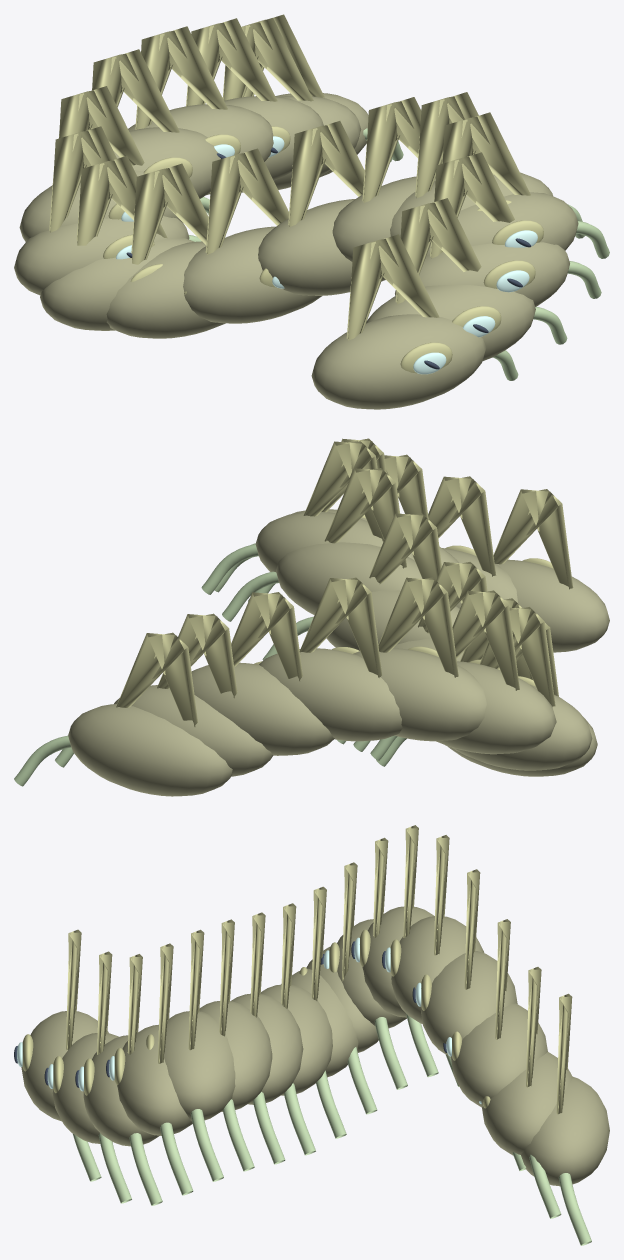
The model's file is bio_ribbon_colony_09_near.glb.
The picture shows the model from 3 angles, top to bottom: view 1: azimuth 30°, elevation 25°; view 2: azimuth 150°, elevation 25°; view 3: azimuth 270°, elevation 25°; orthographic projection. The views are drawn at different scales.
Visible parts, largest first — view 1: Overlapping folded ribbon, Overlapping folded ribbon.007, Overlapping folded ribbon.006, Overlapping folded ribbon.008, Raised pleated edge, Overlapping folded ribbon.010, Overlapping folded ribbon.009, Raised pleated edge.007, Overlapping folded ribbon.002, Overlapping folded ribbon.001, Raised pleated edge.008, Raised pleated edge.006 (+25 smaller); view 2: Overlapping folded ribbon.016, Overlapping folded ribbon.013, Overlapping folded ribbon.012, Overlapping folded ribbon.014, Overlapping folded ribbon.011, Overlapping folded ribbon, Overlapping folded ribbon.005, Overlapping folded ribbon.015, Raised pleated edge.012, Raised pleated edge, Raised pleated edge.013, Raised pleated edge.016 (+20 smaller); view 3: Overlapping folded ribbon.016, Overlapping folded ribbon.004, Overlapping folded ribbon.014, Overlapping folded ribbon.013, Overlapping folded ribbon.015, Overlapping folded ribbon.003, Overlapping folded ribbon.012, Overlapping folded ribbon.005, Overlapping folded ribbon, Overlapping folded ribbon.006, Overlapping folded ribbon.007, Overlapping folded ribbon.002 (+36 smaller).
Part boxes in pixels (x1,y1,x2,y2): Overlapping folded ribbon: (311, 314, 486, 409); Overlapping folded ribbon.007: (183, 226, 321, 323); Overlapping folded ribbon.006: (258, 199, 385, 295); Overlapping folded ribbon.008: (106, 241, 225, 338); Raised pleated edge: (346, 234, 452, 373); Overlapping folded ribbon.010: (14, 216, 189, 295); Overlapping folded ribbon.009: (40, 237, 194, 330); Raised pleated edge.007: (205, 148, 288, 287); Overlapping folded ribbon.002: (395, 242, 569, 306); Overlapping folded ribbon.001: (366, 285, 535, 360); Raised pleated edge.008: (131, 163, 208, 294); Raised pleated edge.006: (288, 121, 364, 226); Overlapping folded ribbon.016: (68, 704, 232, 796); Overlapping folded ribbon.013: (259, 648, 402, 741); Overlapping folded ribbon.012: (353, 648, 486, 741); Overlapping folded ribbon.014: (191, 662, 334, 755); Overlapping folded ribbon.011: (436, 661, 556, 754); Overlapping folded ribbon: (496, 559, 609, 652); Overlapping folded ribbon.005: (276, 542, 422, 614); Overlapping folded ribbon.015: (114, 685, 273, 776); Raised pleated edge.012: (378, 577, 458, 677); Raised pleated edge: (493, 489, 572, 589); Raised pleated edge.013: (299, 577, 382, 677); Raised pleated edge.016: (116, 632, 197, 726); Overlapping folded ribbon.016: (521, 1076, 609, 1186); Overlapping folded ribbon.004: (164, 1011, 235, 1120); Overlapping folded ribbon.014: (450, 1003, 547, 1107); Overlapping folded ribbon.013: (421, 951, 517, 1056); Overlapping folded ribbon.015: (482, 1052, 572, 1155); Overlapping folded ribbon.003: (117, 1024, 192, 1135); Overlapping folded ribbon.012: (391, 916, 484, 1024); Overlapping folded ribbon.005: (199, 1001, 272, 1111); Overlapping folded ribbon: (21, 1011, 108, 1121); Overlapping folded ribbon.006: (231, 993, 303, 1104); Overlapping folded ribbon.007: (260, 984, 332, 1095); Overlapping folded ribbon.002: (83, 1035, 159, 1146).
Size of the model in its own units: 2.82 by 1.36 by 3.04.
